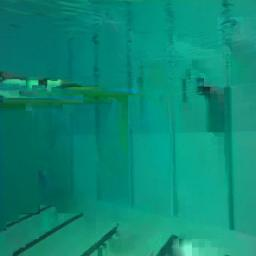Full: (195, 77, 223, 97)
